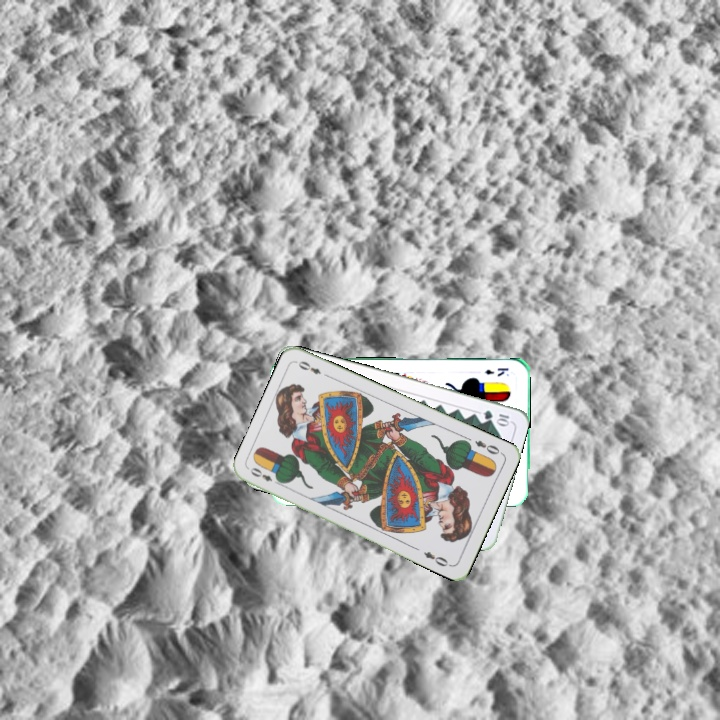EK: (480, 364, 511, 379)
EO: (246, 464, 284, 488), (470, 436, 505, 457)
G10: (479, 406, 512, 427)
